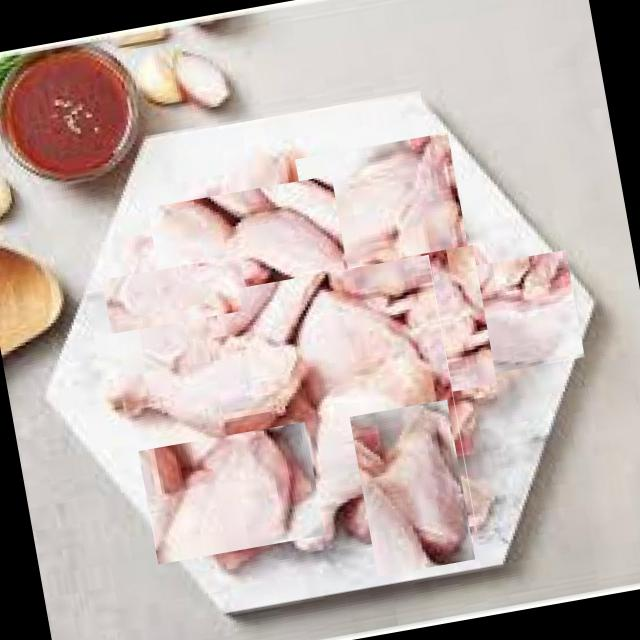chicken: (238, 255, 476, 558), (98, 298, 332, 454), (296, 132, 474, 310), (144, 400, 316, 572), (164, 156, 330, 322), (336, 412, 488, 564), (425, 240, 576, 392), (384, 244, 498, 398), (114, 240, 238, 364)
